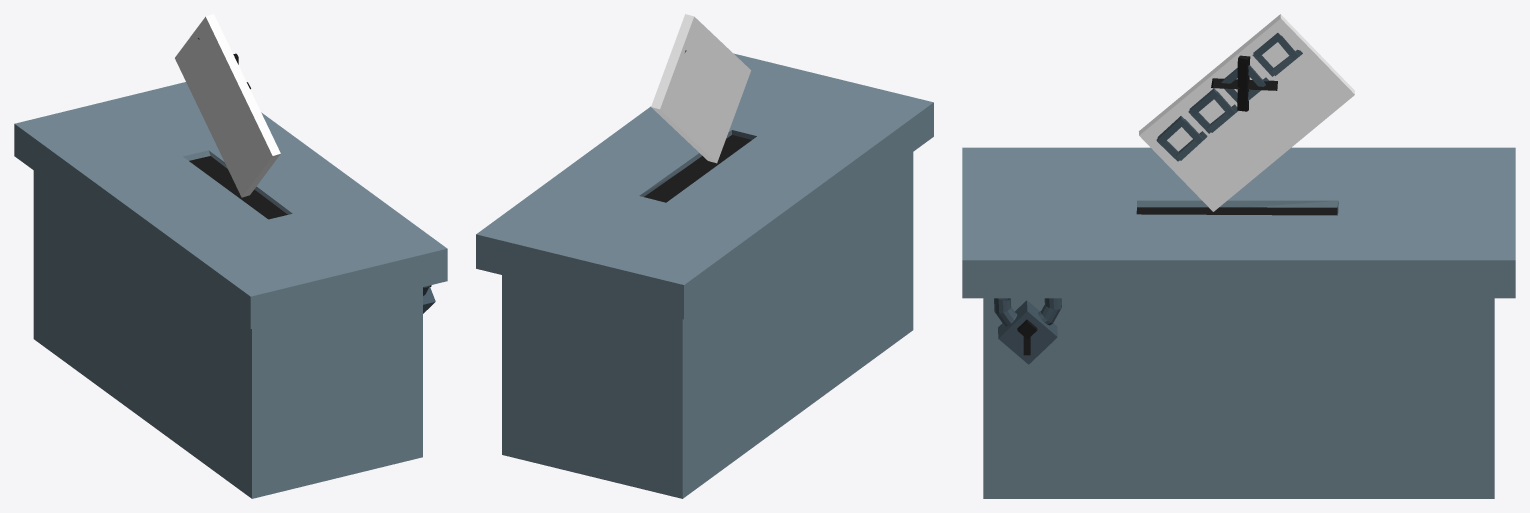
The model's file is donation-box.glb.
3 views of the same model, side by side, from view 1: azimuth 30°, elevation 25°; view 2: azimuth 150°, elevation 25°; view 3: azimuth 270°, elevation 25° (orthographic). The views are drawn at different scales.
Parts seen in each view (by area): view 1: Node; view 2: Node; view 3: Node.
Part boxes in pixels (bbox=[...]): Node: bbox=[14, 14, 447, 498]; Node: bbox=[476, 14, 933, 498]; Node: bbox=[962, 14, 1515, 498].
Bounding box in the file's own units: 0.3952 × 0.6832 × 0.79.
